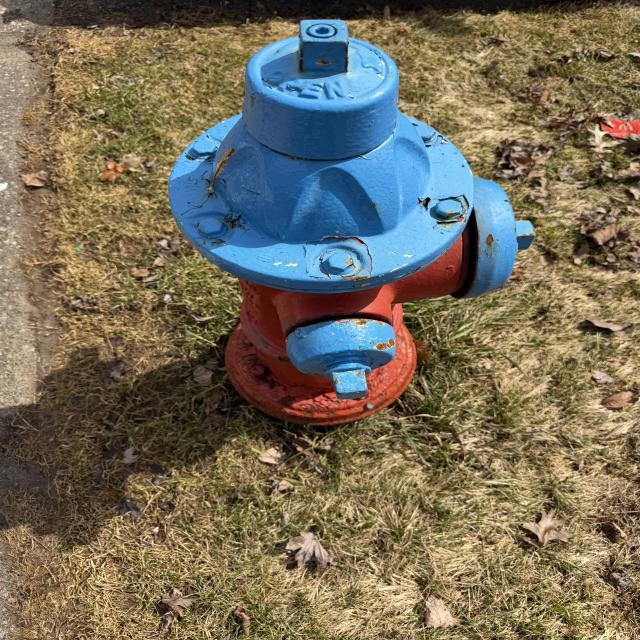Fire hydrant: (168, 18, 537, 427)
